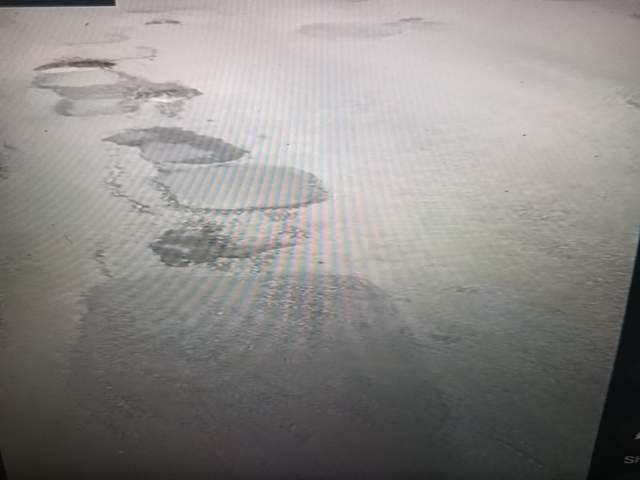pothole: (117, 403, 346, 480)
